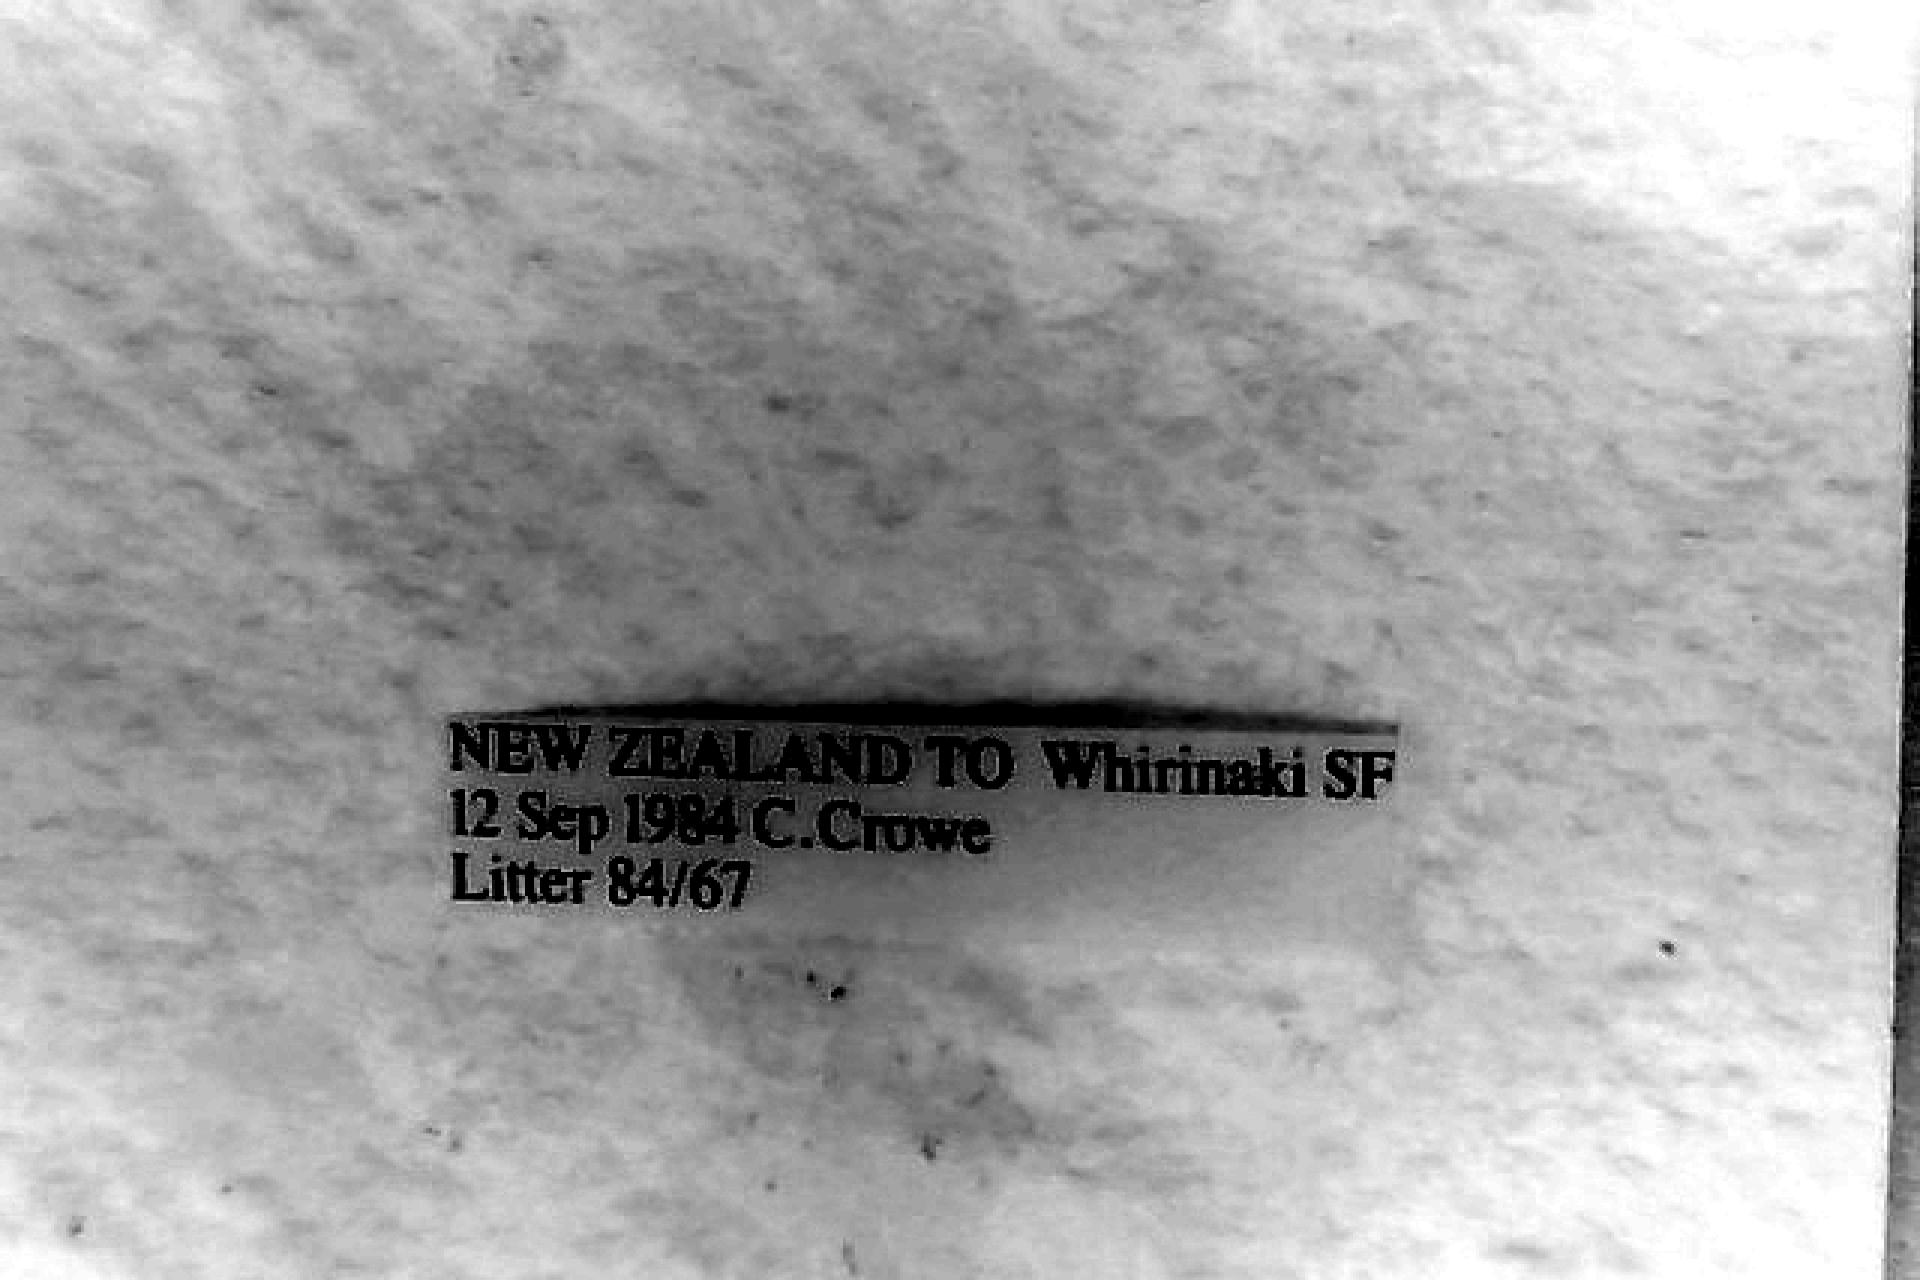typed_label: (446, 713, 1399, 937)
